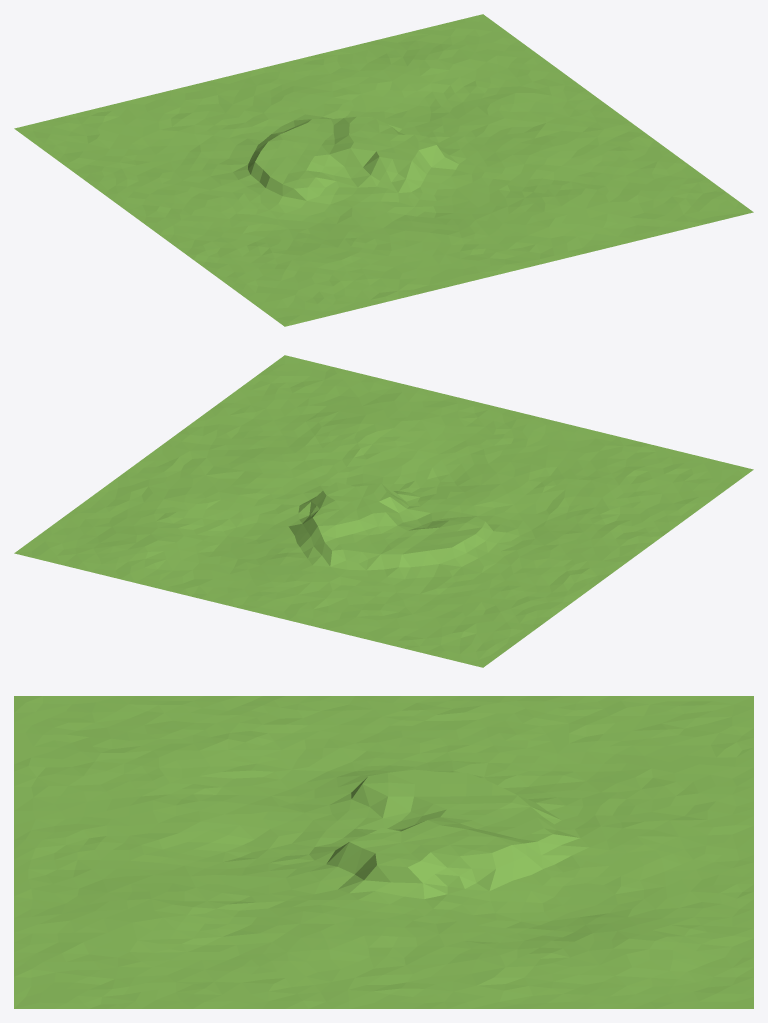
The model's file is MT_Terrain_L_c_13_LOD.fbx.
3 views of the same model, one above another, from view 1: azimuth 30°, elevation 25°; view 2: azimuth 150°, elevation 25°; view 3: azimuth 270°, elevation 25° (orthographic). The views are drawn at different scales.
Visible parts, largest first — view 1: MT_Terrain_L_c_13_LOD0; view 2: MT_Terrain_L_c_13_LOD0; view 3: MT_Terrain_L_c_13_LOD0.
Boxes of the visible parts, x1=… form: MT_Terrain_L_c_13_LOD0: x1=14, y1=14, x2=753, y2=326; MT_Terrain_L_c_13_LOD0: x1=14, y1=355, x2=753, y2=667; MT_Terrain_L_c_13_LOD0: x1=14, y1=696, x2=753, y2=1008.
Size of what is drawn, in the model's own units: 10000 by 397 by 10000.
